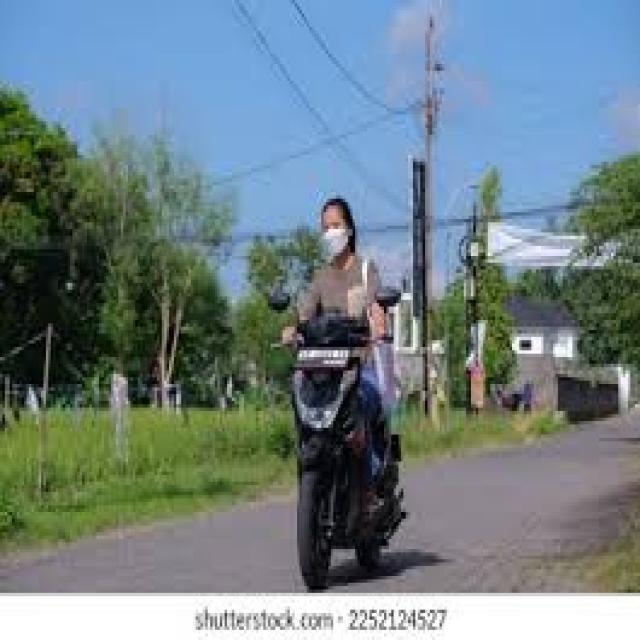Without Helmet: (309, 186, 366, 277)
